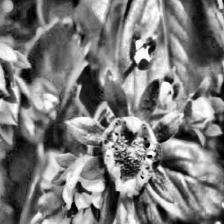Blossom Blight: (102, 118, 162, 192)
